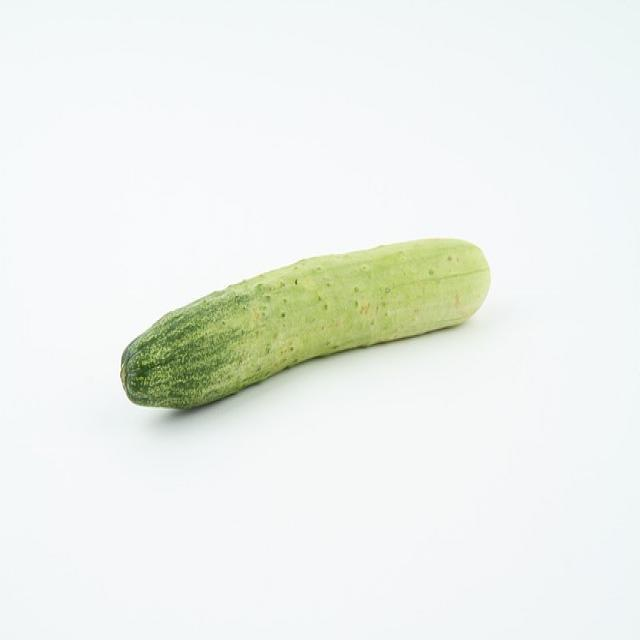cucumber: (101, 220, 506, 430)
